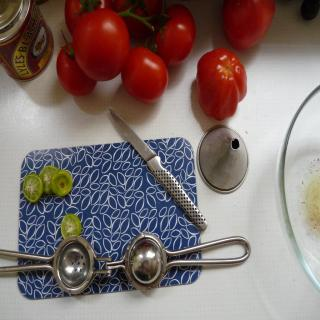tomato: (64, 1, 130, 83), (132, 4, 195, 67), (195, 46, 248, 120), (121, 34, 168, 104), (55, 29, 98, 97), (222, 0, 277, 47), (62, 0, 110, 37)
